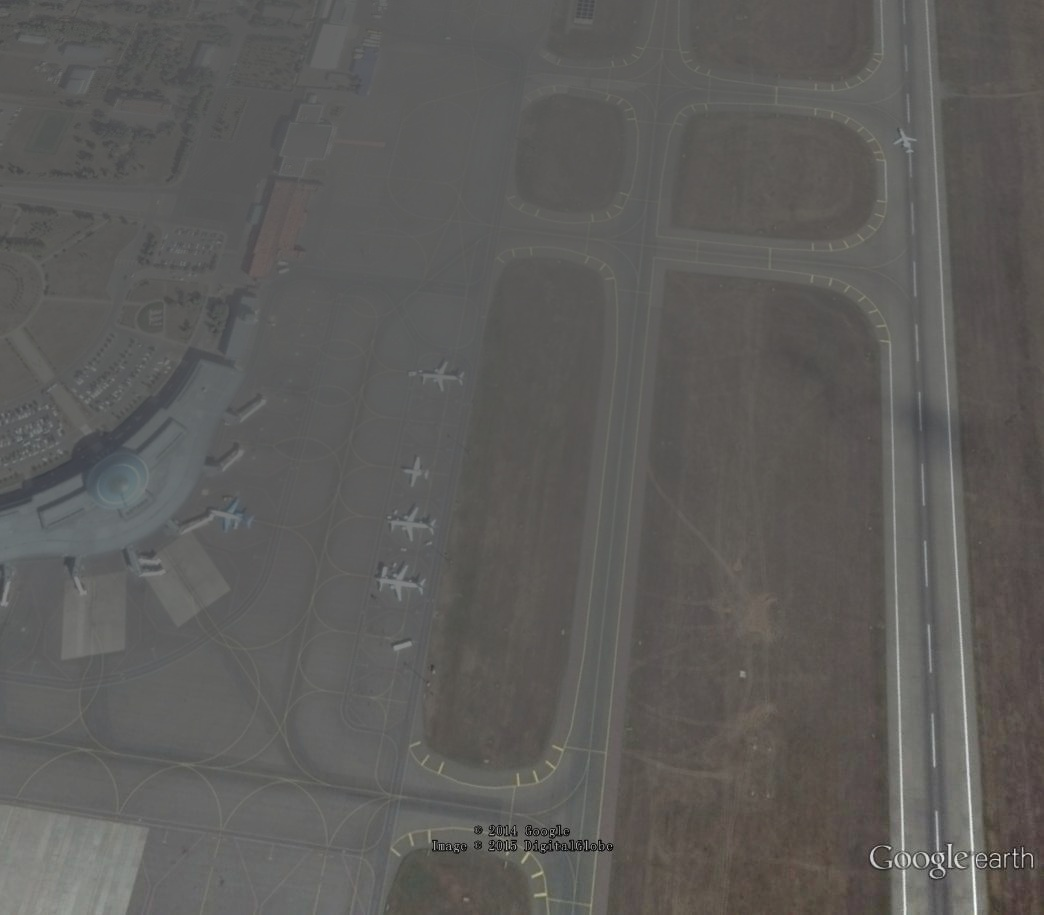aircraft: (374, 562, 428, 604), (386, 504, 440, 544), (412, 359, 468, 397), (209, 495, 259, 537), (400, 454, 433, 492), (891, 125, 923, 157)
